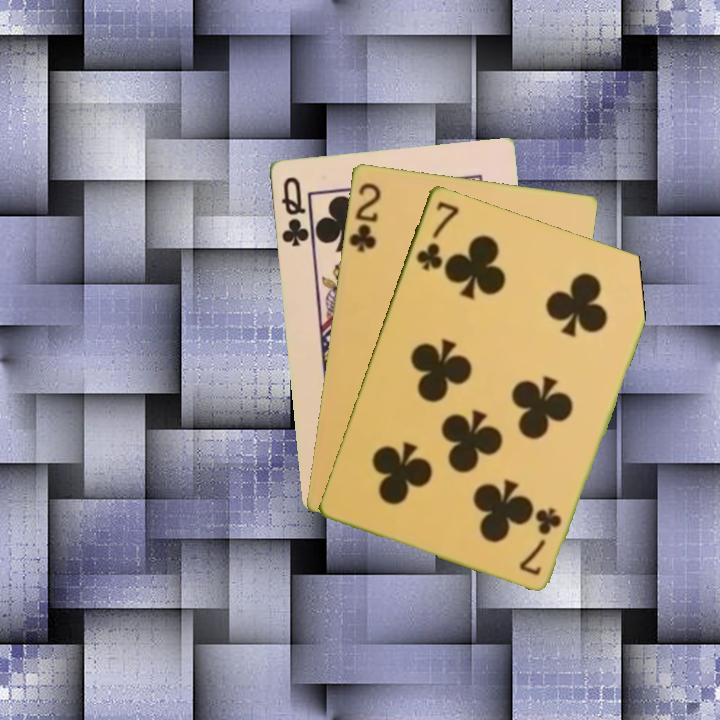2c: (345, 178, 383, 255)
7c: (412, 197, 462, 273), (518, 503, 565, 578)
Qc: (277, 173, 312, 249)
